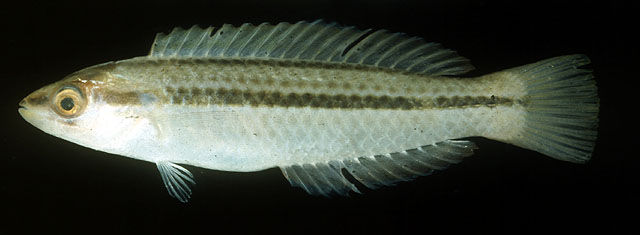fish: (18, 19, 600, 204)
